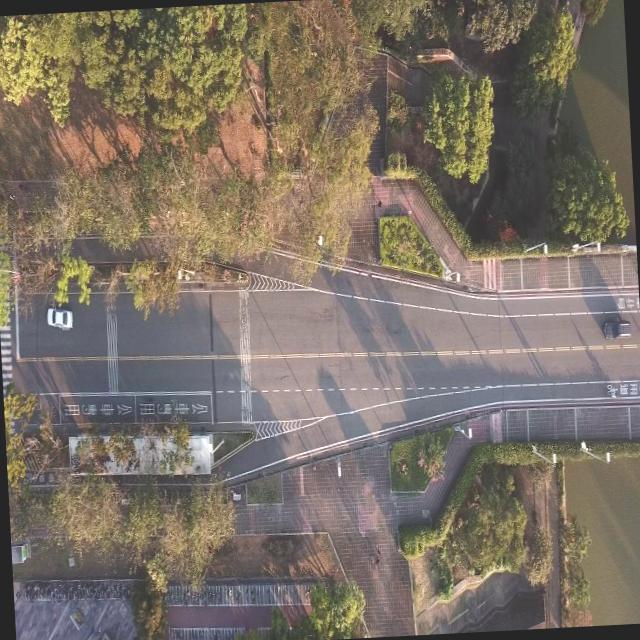car: (603, 316, 632, 340), (46, 306, 73, 331)
